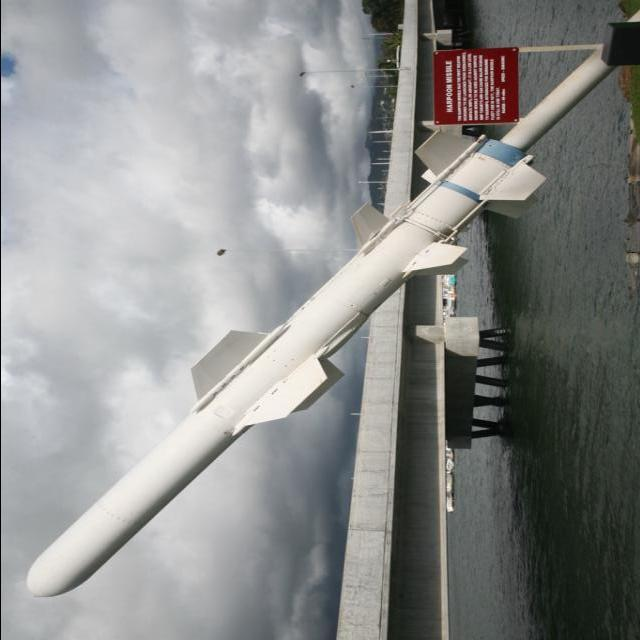missile: (22, 127, 542, 603)
